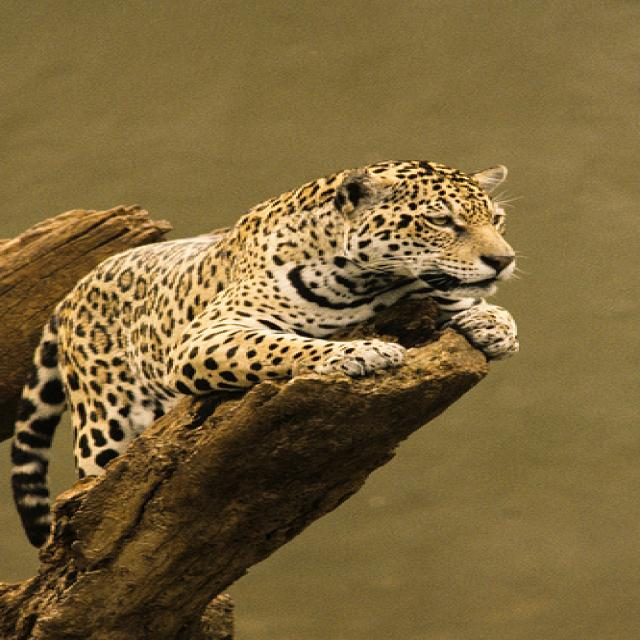Leopard: (2, 152, 515, 549)
